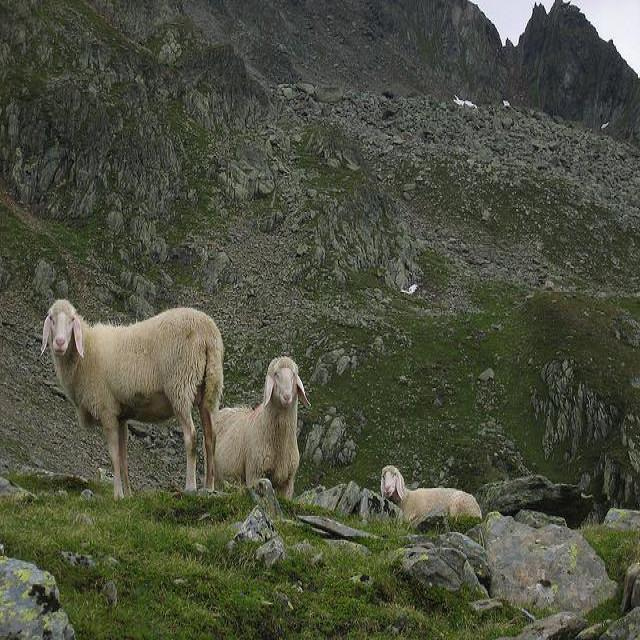Sheep: (36, 303, 222, 497), (215, 356, 313, 503), (381, 466, 484, 522)
